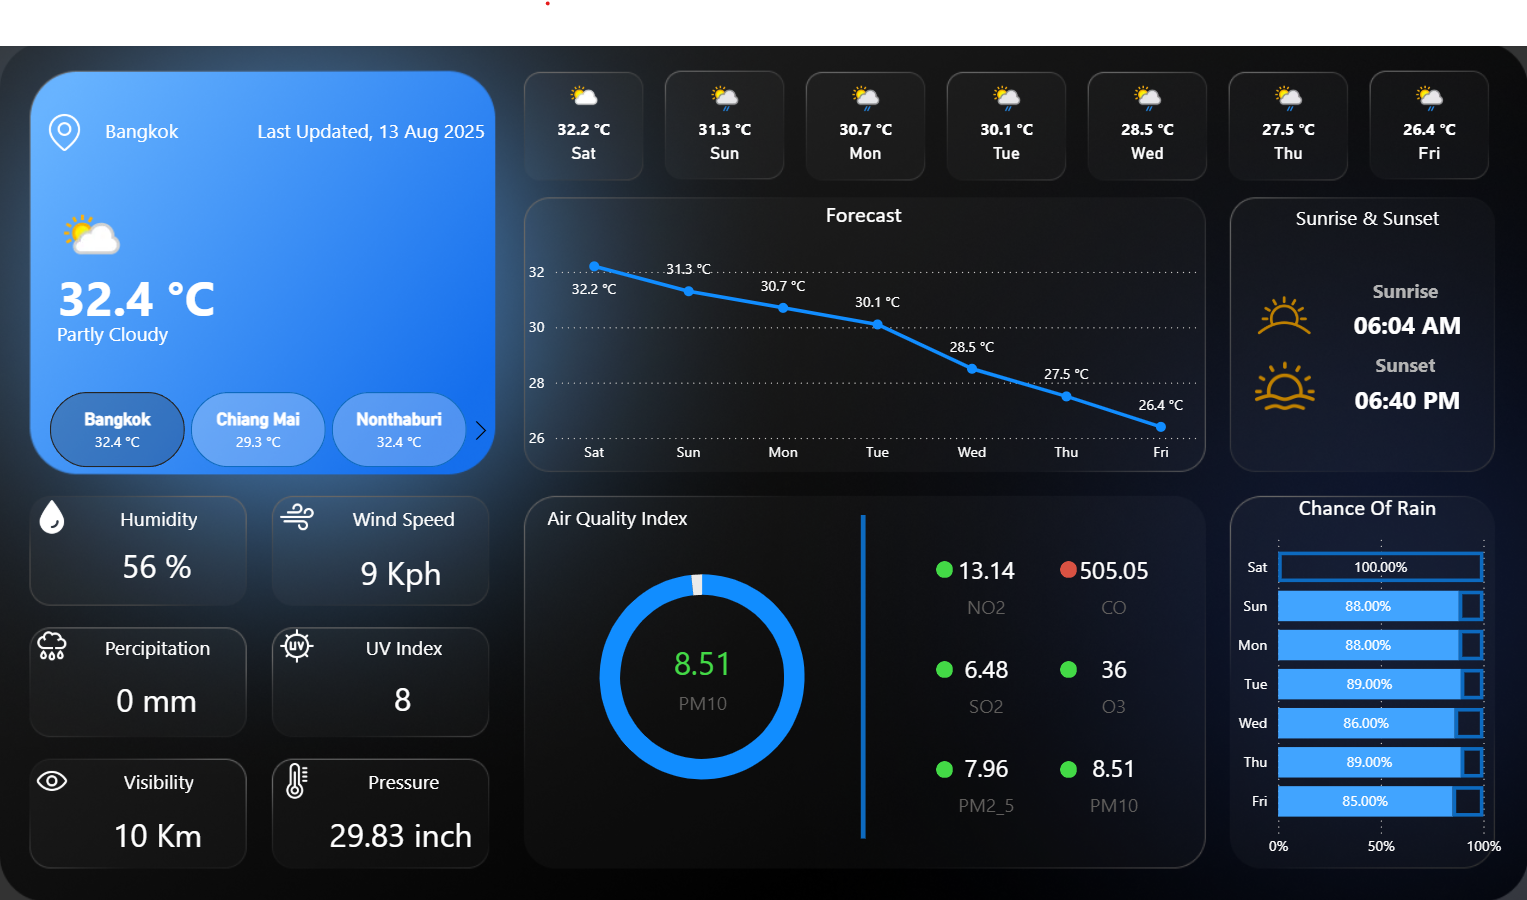

This screenshot's page, from the dashboard's own definition file:
{"tool":"powerbi","page":{"name":"Page 1","canvas":[1280,720],"ordinal":0},"visuals":[{"type":"advancedSlicerVisual","fields":{"Values":["Locations.location.name"]},"box":[16.5,286,401.7,73.9],"z":0},{"type":"shape","box":[17.7,181,193,61.8],"z":1000},{"type":"shape","box":[47.7,221.3,319.5,43.1],"z":2000},{"type":"shape","box":[23.4,51.2,190.3,43.4],"z":3000},{"type":"shape","box":[203.7,51.2,214.8,43.4],"z":4000},{"type":"image","box":[33.7,53.4,41.2,41.2],"z":5000},{"type":"cardVisual","fields":{"Data":["Min(Current.current.condition.icon)"]},"box":[23.4,118,108,84.6],"z":6000},{"type":"image","box":[23.4,484.2,40.1,40.1],"z":7000},{"type":"image","box":[228.2,484.2,40.1,40.1],"z":8000},{"type":"image","box":[23.4,596.6,40.1,40.1],"z":9000},{"type":"image","box":[228.2,596.6,40.1,40.1],"z":10000},{"type":"image","box":[228.2,376.2,40.1,40.1],"z":11000},{"type":"image","box":[23.4,376.2,40.1,40.1],"z":12000},{"type":"shape","box":[61.8,595.9,142.1,42.1],"z":13000},{"type":"shape","box":[267.1,376.2,142.1,42.1],"z":14000},{"type":"shape","box":[60.5,484.1,143.4,42.1],"z":15000},{"type":"shape","box":[267.1,484.1,142.1,42.1],"z":16000},{"type":"shape","box":[61.8,376.2,142.1,42.1],"z":17000},{"type":"shape","box":[267.1,595.9,142.1,42.1],"z":18000},{"type":"card","fields":{"Values":["_Measure.Humidity"]},"box":[86.8,392,88.1,92.1],"z":19000},{"type":"card","fields":{"Values":["_Measure.Wind_Speed"]},"box":[267.1,397,137.3,92.8],"z":20000},{"type":"card","fields":{"Values":["_Measure.Precipitation"]},"box":[86.8,503.8,88.1,92.1],"z":21000},{"type":"card","fields":{"Values":["Sum(Current.current.uv)"]},"box":[293.3,503.3,88,91.5],"z":22000},{"type":"card","fields":{"Values":["_Measure.Vis"]},"box":[66.8,617.1,129.9,91.5],"z":23000},{"type":"card","fields":{"Values":["_Measure.Pressure"]},"box":[267.1,617.1,137.3,91.5],"z":24000},{"type":"advancedSlicerVisual","fields":{"Values":["Forecast_Day.Day_Name"]},"box":[428.3,25.5,833.4,92.6],"z":25000},{"type":"lineChart","title":"   Forecast ","fields":{"Y":["Sum(Forecast_Day.forecast.forecastday.day.avgtemp_c)"],"Category":["Forecast_Day.Day_Name"]},"box":[437.6,130.8,570.7,229.2],"z":26000},{"type":"shape","box":[1027.9,130.8,233.8,28.9],"z":27000},{"type":"shape","box":[1125.1,204.9,106.5,59],"z":28000},{"type":"shape","box":[1125.1,266.2,106.5,61.4],"z":29000},{"type":"shape","box":[1123.6,176.7,106.5,59],"z":30000},{"type":"shape","box":[1123.6,238,106.5,61.4],"z":31000},{"type":"image","box":[1040.6,192.2,69.5,69.5],"z":32000},{"type":"image","box":[1045.3,255.8,60.2,60.2],"z":33000},{"type":"hundredPercentStackedBarChart","title":"Chance Of Rain","fields":{"Category":["Forecast_Day.Day_Name"],"Y":["Sum(Forecast_Day.forecast.forecastday.day.daily_chance_of_rain)","_Measure.Rain_Chance"]},"box":[1027.9,376.2,233.8,313.7],"z":34000},{"type":"card","fields":{"Values":["Sum(Current.current.air_quality.co)"]},"box":[881.9,416.4,102.2,73.3],"z":35000},{"type":"card","fields":{"Values":["Sum(Current.current.air_quality.o3)"]},"box":[881.9,499.3,102.2,73.3],"z":36000},{"type":"card","fields":{"Values":["Sum(Current.current.air_quality.pm10)"]},"box":[881.9,582.2,102.2,73.3],"z":37000},{"type":"card","fields":{"Values":["Sum(Current.current.air_quality.no2)"]},"box":[778.8,416.4,94.5,73.3],"z":38000},{"type":"card","fields":{"Values":["Sum(Current.current.air_quality.so2)"]},"box":[778.8,499.3,94.5,73.3],"z":39000},{"type":"card","fields":{"Values":["Sum(Current.current.air_quality.pm2_5)"]},"box":[778.8,582.2,94.5,73.3],"z":40000},{"type":"shape","box":[445.3,375.9,142.7,41.4],"z":41000},{"type":"shape","box":[783.7,432.8,14.5,14.5],"z":42000},{"type":"shape","box":[783.7,516.6,14.5,14.5],"z":43000},{"type":"shape","box":[783.7,600.5,14.5,14.5],"z":44000},{"type":"shape","box":[887.7,432.8,14.5,14.5],"z":45000},{"type":"shape","box":[887.7,516.6,14.5,14.5],"z":46000},{"type":"shape","box":[887.7,600.5,14.5,14.5],"z":47000},{"type":"card","fields":{"Values":["Sum(Current.current.air_quality.pm10)"]},"box":[537.1,493.1,101.9,72.9],"z":48000},{"type":"shape","box":[648.2,394.7,149.3,270.9],"z":49000},{"type":"donutChart","fields":{"Y":["_Measure.Lef_value_PM","Sum(Current.current.air_quality.pm10)"]},"box":[475.8,407.5,224.6,244.2],"z":50000}]}

Visuals, with their boxes on the page's 1280x720 design canvas (x1, y1, x2, y2). These are canvas units, not pixel positions in the 1527x900 screenshot, which may show the page scaled, cropped or inside an application window:
advancedSlicerVisual - Locations.location.name: l=16, t=286, r=418, b=360
shape: l=18, t=181, r=211, b=243
shape: l=48, t=221, r=367, b=264
shape: l=23, t=51, r=214, b=95
shape: l=204, t=51, r=418, b=95
image: l=34, t=53, r=75, b=95
cardVisual - Min(Current.current.condition.icon): l=23, t=118, r=131, b=203
image: l=23, t=484, r=64, b=524
image: l=228, t=484, r=268, b=524
image: l=23, t=597, r=64, b=637
image: l=228, t=597, r=268, b=637
image: l=228, t=376, r=268, b=416
image: l=23, t=376, r=64, b=416
shape: l=62, t=596, r=204, b=638
shape: l=267, t=376, r=409, b=418
shape: l=60, t=484, r=204, b=526
shape: l=267, t=484, r=409, b=526
shape: l=62, t=376, r=204, b=418
shape: l=267, t=596, r=409, b=638
card - _Measure.Humidity: l=87, t=392, r=175, b=484
card - _Measure.Wind_Speed: l=267, t=397, r=404, b=490
card - _Measure.Precipitation: l=87, t=504, r=175, b=596
card - Sum(Current.current.uv): l=293, t=503, r=381, b=595
card - _Measure.Vis: l=67, t=617, r=197, b=709
card - _Measure.Pressure: l=267, t=617, r=404, b=709
advancedSlicerVisual - Forecast_Day.Day_Name: l=428, t=26, r=1262, b=118
"   Forecast " lineChart: l=438, t=131, r=1008, b=360
shape: l=1028, t=131, r=1262, b=160
shape: l=1125, t=205, r=1232, b=264
shape: l=1125, t=266, r=1232, b=328
shape: l=1124, t=177, r=1230, b=236
shape: l=1124, t=238, r=1230, b=299
image: l=1041, t=192, r=1110, b=262
image: l=1045, t=256, r=1106, b=316
"Chance Of Rain" hundredPercentStackedBarChart: l=1028, t=376, r=1262, b=690
card - Sum(Current.current.air_quality.co): l=882, t=416, r=984, b=490
card - Sum(Current.current.air_quality.o3): l=882, t=499, r=984, b=573
card - Sum(Current.current.air_quality.pm10): l=882, t=582, r=984, b=656
card - Sum(Current.current.air_quality.no2): l=779, t=416, r=873, b=490
card - Sum(Current.current.air_quality.so2): l=779, t=499, r=873, b=573
card - Sum(Current.current.air_quality.pm2_5): l=779, t=582, r=873, b=656
shape: l=445, t=376, r=588, b=417
shape: l=784, t=433, r=798, b=447
shape: l=784, t=517, r=798, b=531
shape: l=784, t=600, r=798, b=615
shape: l=888, t=433, r=902, b=447
shape: l=888, t=517, r=902, b=531
shape: l=888, t=600, r=902, b=615
card - Sum(Current.current.air_quality.pm10): l=537, t=493, r=639, b=566
shape: l=648, t=395, r=798, b=666
donutChart - _Measure.Lef_value_PM x Sum(Current.current.air_quality.pm10): l=476, t=408, r=700, b=652
